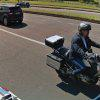Motorcycle: (39, 27, 100, 100)
